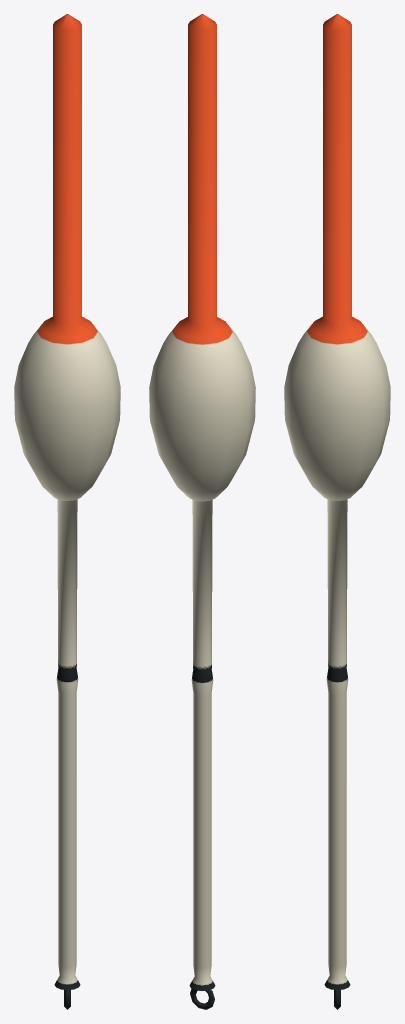
The picture shows the model from 3 angles, left to right: view 1: azimuth 90°, elevation 25°; view 2: azimuth 150°, elevation 25°; view 3: azimuth 270°, elevation 25°; orthographic projection.
Parts seen in each view (by area): view 1: F06_Float; view 2: F06_Float; view 3: F06_Float.
Part boxes in pixels (bbox=[...]): F06_Float: bbox=[14, 14, 120, 1009]; F06_Float: bbox=[149, 14, 255, 1009]; F06_Float: bbox=[284, 14, 390, 1009].
Bounding box in the file's own units: 0.0214 × 0.22 × 0.0214.
Materials: 1 (1 with a texture image).
